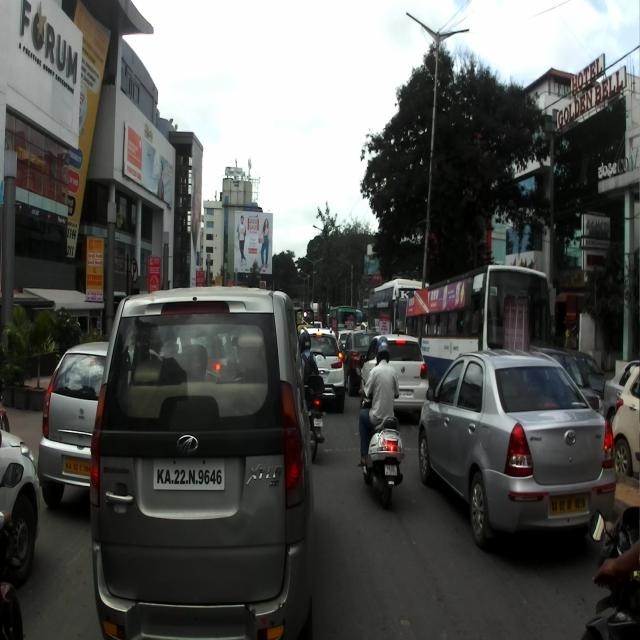Car_Mahindra: (88, 288, 318, 637)
Car_Maruti-Suzuki: (528, 343, 604, 416)
Car_TATA: (37, 340, 111, 507)
Car_Toyota: (418, 348, 619, 544)
Car_Volkswagen: (358, 335, 430, 411)
scooter: (352, 366, 403, 502)
